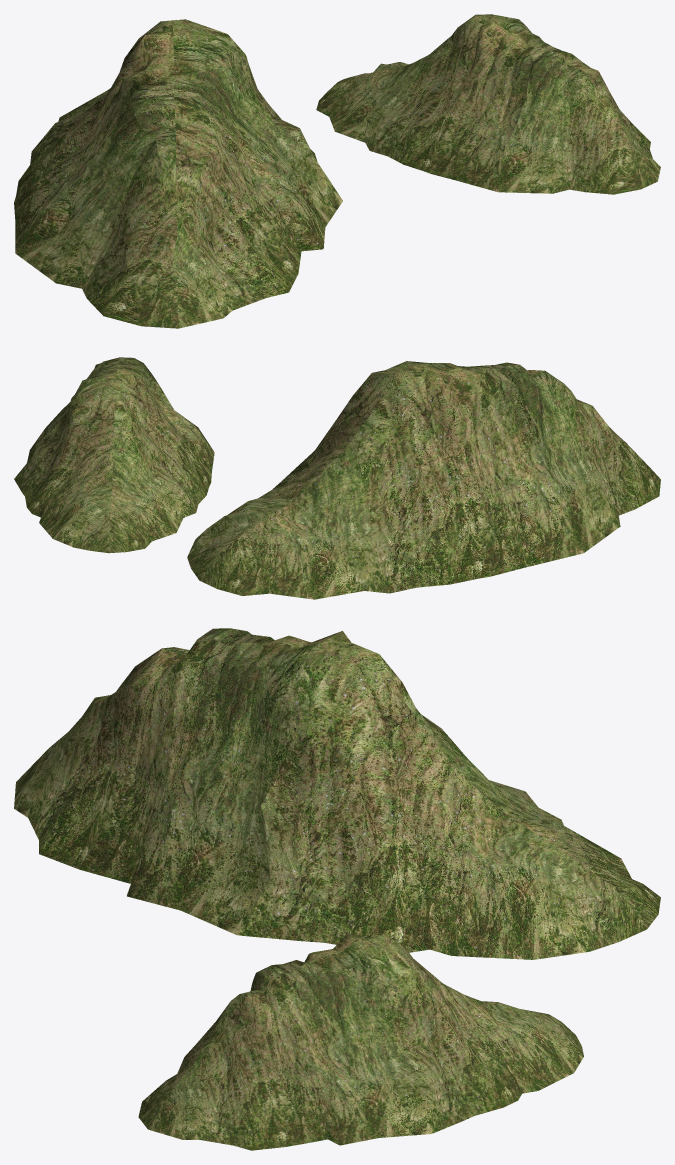
The model's file is mountain.fbx.
3 renders of one model, top to bottom at view 1: azimuth 30°, elevation 25°; view 2: azimuth 150°, elevation 25°; view 3: azimuth 270°, elevation 25°, orthographic. The views are drawn at different scales.
Parts seen in each view (by area): view 1: polySurface2, polySurface1; view 2: polySurface2, polySurface1; view 3: polySurface2, polySurface1.
Boxes of the visible parts, <box> form: polySurface2: <box>14,19,342,328</box>; polySurface1: <box>316,14,660,194</box>; polySurface2: <box>187,361,660,599</box>; polySurface1: <box>14,357,214,553</box>; polySurface2: <box>14,628,660,959</box>; polySurface1: <box>138,933,583,1150</box>.
Size of the model in its own units: 86942 by 26644 by 64519.
